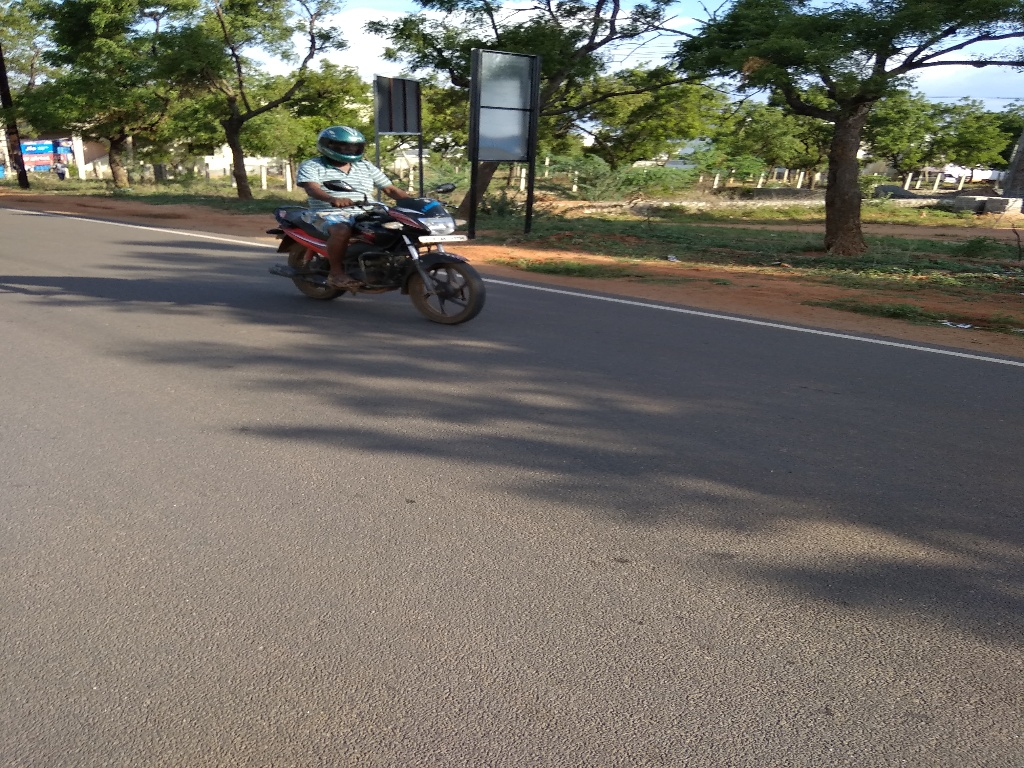biker: (251, 90, 496, 340)
helmet: (300, 117, 380, 174)
